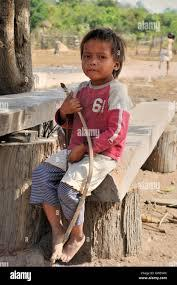Human: (35, 20, 130, 266)
